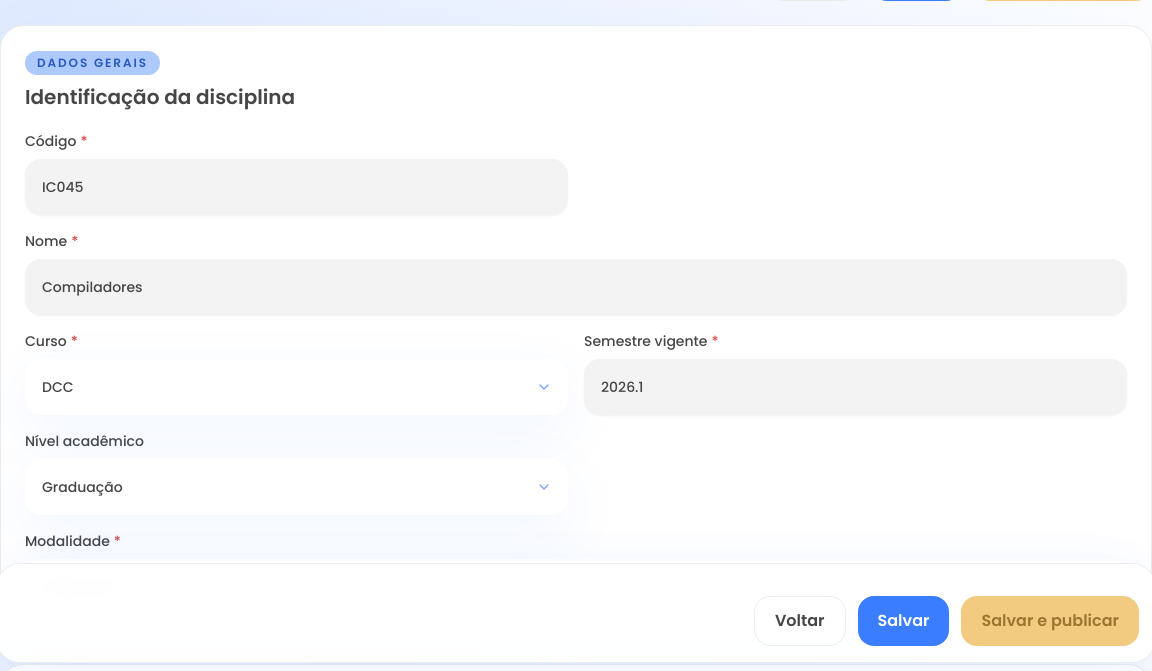
Scenario: DisciplineEditorForm publish validation › deve bloquear publicação quando campos obrigatórios do template estiverem vazios
Click the 2nd button "Salvar e publicar" at (1050, 621), box [962, 596, 1139, 646]
(page scrolled)
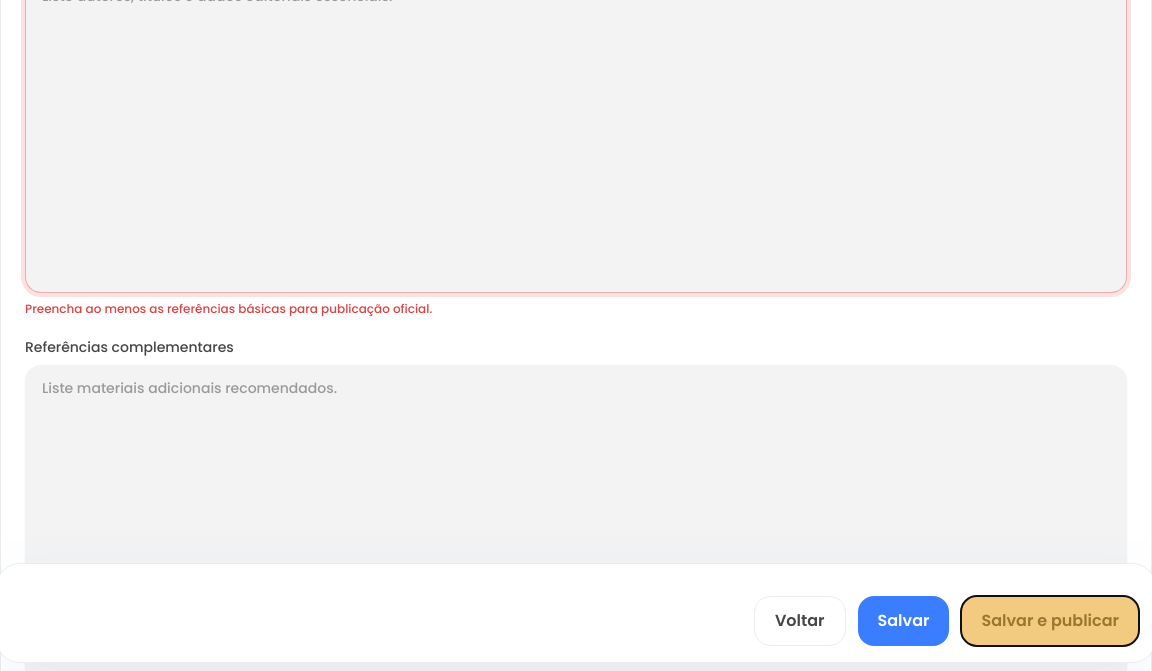
Expected: the text "Preencha ao menos as referências básicas para publicação oficial." is shown, [25, 300, 432, 317]
